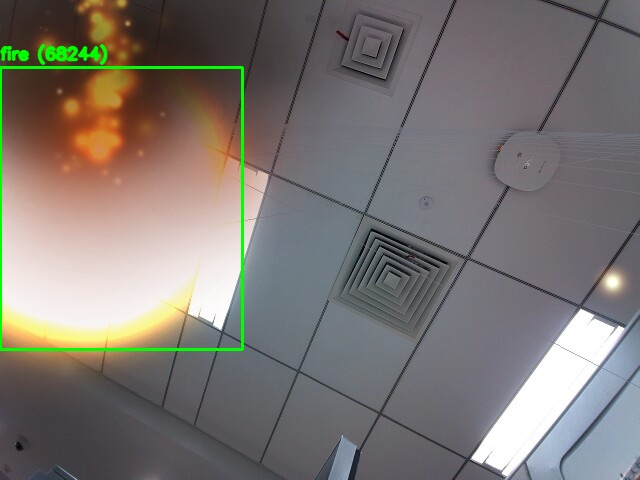fire: (0, 67, 242, 349)
